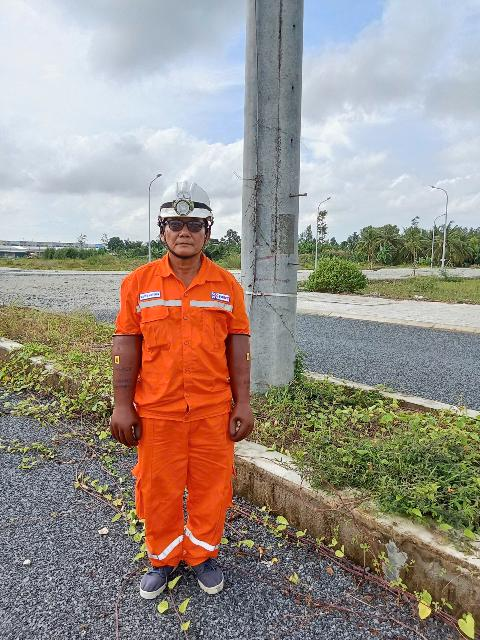gloves: (90, 318, 153, 451), (219, 324, 261, 438)
helmet: (151, 171, 220, 229)
shoes: (184, 545, 230, 602), (136, 551, 180, 603)
